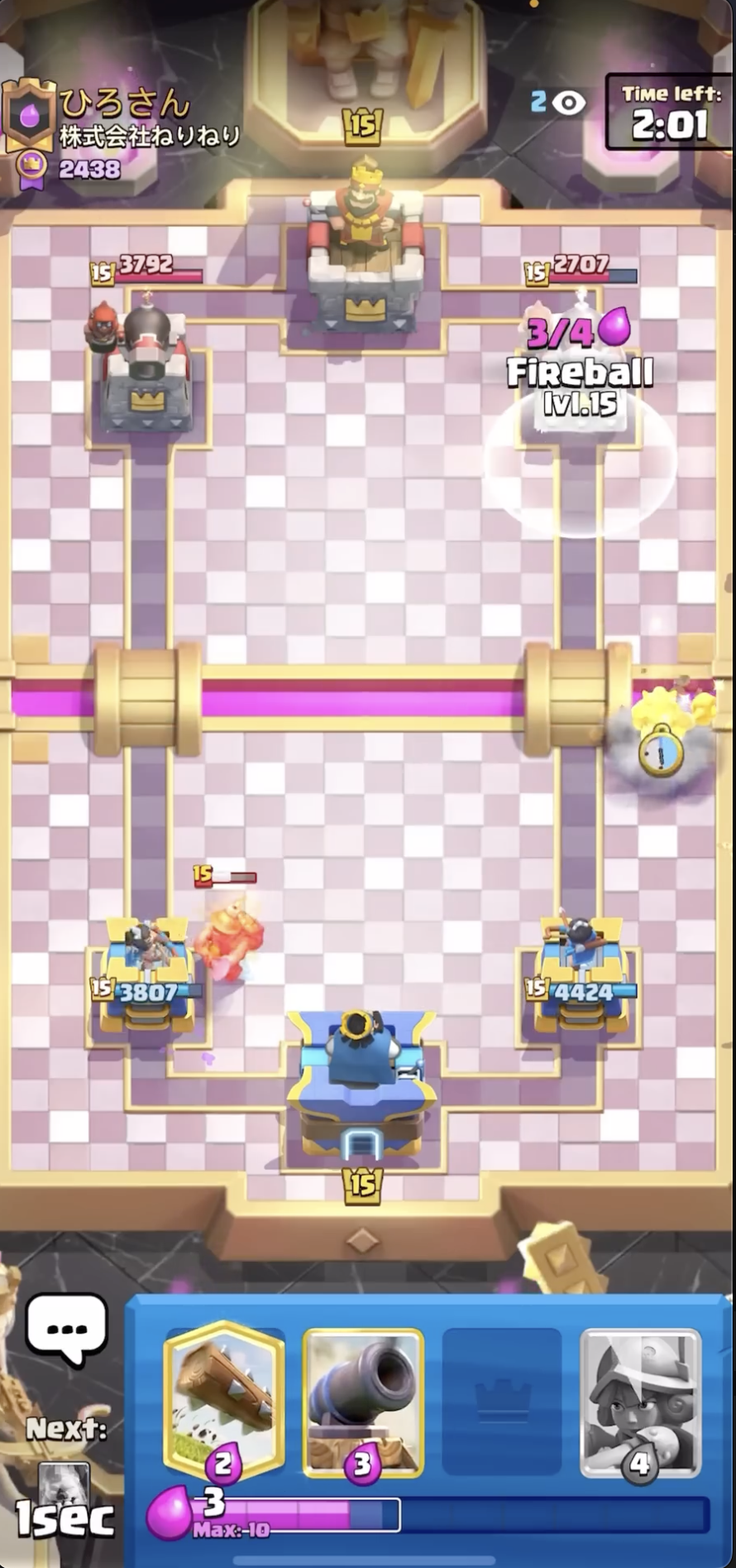hog-rider: (615, 660, 718, 781)
